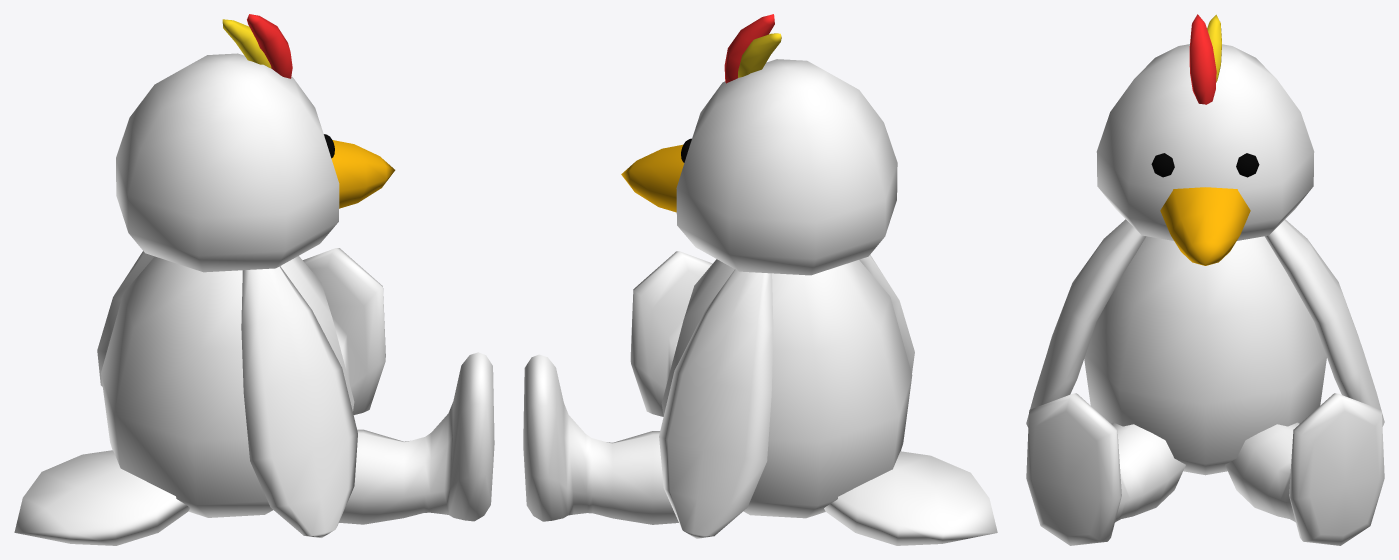
The model's file is AhhChicken2.fbx.
3 renders of one model, left to right at view 1: azimuth 30°, elevation 25°; view 2: azimuth 150°, elevation 25°; view 3: azimuth 270°, elevation 25°, orthographic. The views are drawn at different scales.
Parts seen in each view (by area): view 1: polySurface87, polySurface88, polySurface85, polySurface84, polySurface79, polySurface93, polySurface91, polySurface80, polySurface92; view 2: polySurface87, polySurface88, polySurface80, polySurface79, polySurface84, polySurface93, polySurface91, polySurface85, polySurface92; view 3: polySurface87, polySurface88, polySurface79, polySurface84, polySurface80, polySurface85, polySurface93, polySurface91, polySurface92.
Boxes of the visible parts, <box> form: polySurface87: <box>14,256,354,545</box>; polySurface88: <box>116,53,339,272</box>; polySurface85: <box>241,266,357,537</box>; polySurface84: <box>339,352,494,524</box>; polySurface79: <box>303,248,385,414</box>; polySurface93: <box>331,140,395,208</box>; polySurface91: <box>247,14,292,78</box>; polySurface80: <box>97,251,154,386</box>; polySurface92: <box>222,19,271,68</box>; polySurface87: <box>661,259,997,545</box>; polySurface88: <box>676,59,897,275</box>; polySurface80: <box>659,269,773,538</box>; polySurface79: <box>523,354,678,524</box>; polySurface84: <box>630,251,712,416</box>; polySurface93: <box>621,144,684,212</box>; polySurface91: <box>724,14,774,83</box>; polySurface85: <box>859,254,914,372</box>; polySurface92: <box>738,33,781,77</box>; polySurface87: <box>1084,236,1326,475</box>; polySurface88: <box>1096,44,1314,240</box>; polySurface79: <box>1225,393,1384,545</box>; polySurface84: <box>1026,393,1185,545</box>; polySurface80: <box>1265,219,1384,426</box>; polySurface85: <box>1026,219,1146,427</box>; polySurface93: <box>1160,187,1250,265</box>; polySurface91: <box>1189,14,1216,104</box>; polySurface92: <box>1207,14,1221,82</box>.
Size of the model in its own units: 90.39 by 101 by 71.51.
1 material, 1 textured.
